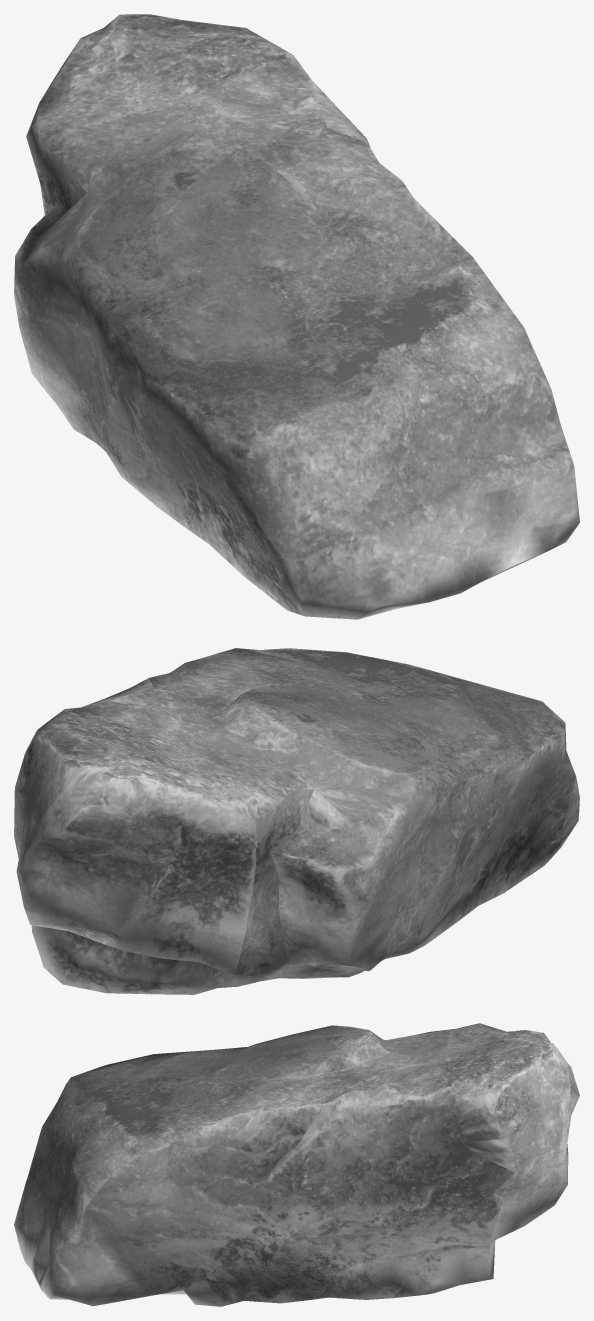
File: rock_07.glb
3 renders of one model, top to bottom at view 1: azimuth 30°, elevation 25°; view 2: azimuth 150°, elevation 25°; view 3: azimuth 270°, elevation 25°, orthographic. The views are drawn at different scales.
Visible parts, largest first — view 1: rock_07; view 2: rock_07; view 3: rock_07.
Boxes of the visible parts, bbox=[...] form: rock_07: bbox=[14, 14, 579, 619]; rock_07: bbox=[14, 648, 579, 994]; rock_07: bbox=[14, 1023, 579, 1306].
Size of the model in its own units: 0.1657 by 0.1427 by 0.3215.
1 material, 1 textured.
